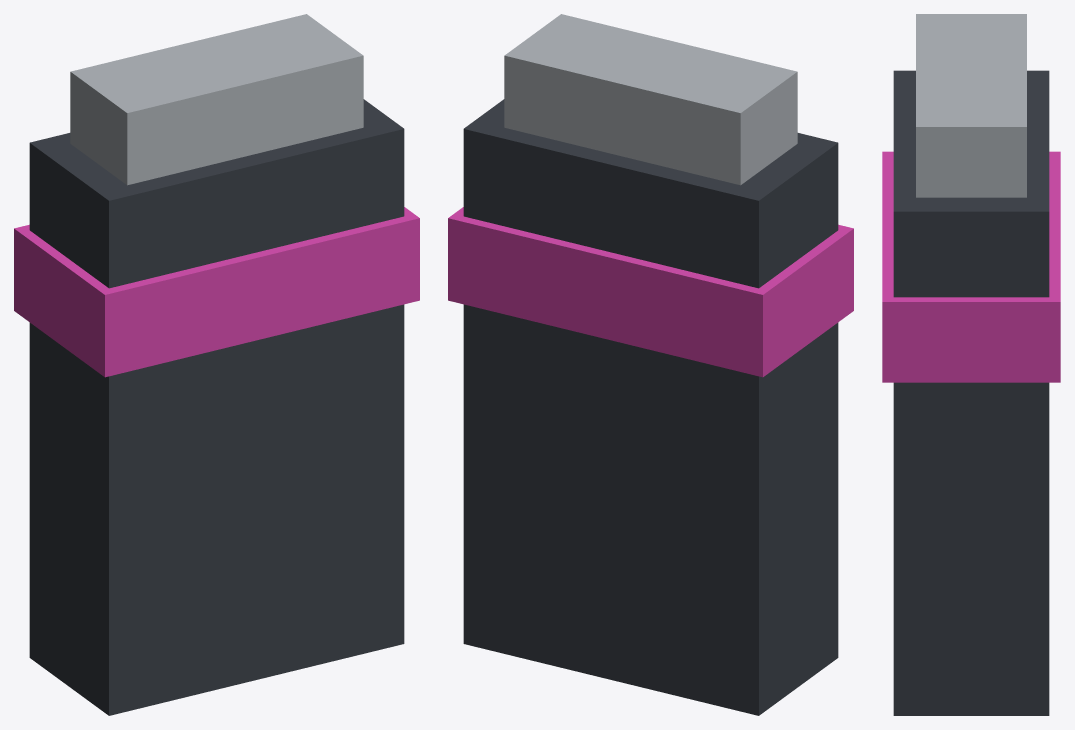
The model's file is flechette-clip-plasma.lod.glb.
The picture shows the model from 3 angles, left to right: view 1: azimuth 30°, elevation 25°; view 2: azimuth 150°, elevation 25°; view 3: azimuth 270°, elevation 25°; orthographic projection. The views are drawn at different scales.
Parts seen in each view (by area): view 1: m; view 2: m; view 3: m.
Part boxes in pixels (box(x1,y1,x2,y2)): m: box(14, 14, 419, 715); m: box(448, 14, 853, 715); m: box(882, 14, 1060, 715).
Bounding box in the file's own units: 0.0281 × 0.05 × 0.014.
